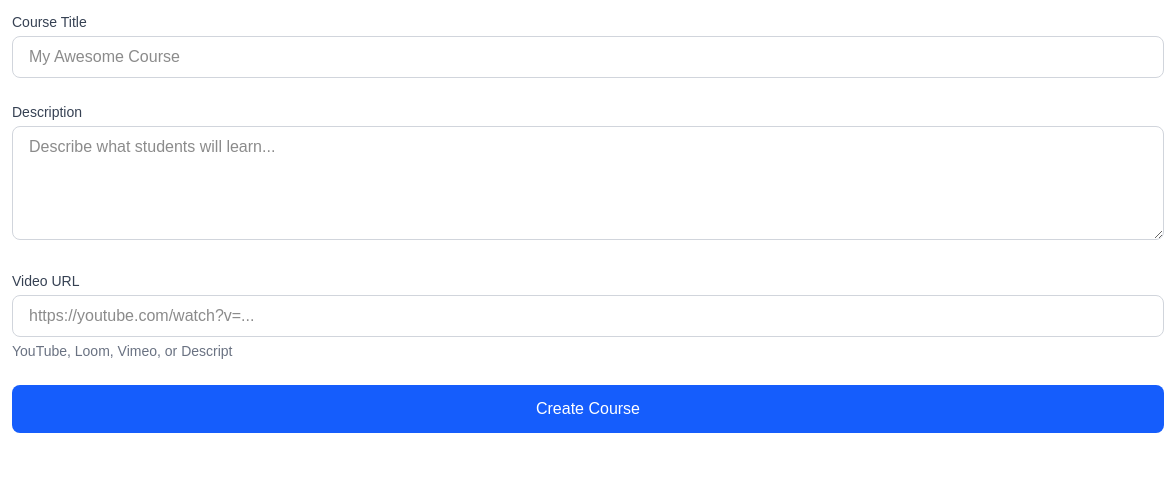
CourseForm › Validation › should show error when title is empty
Click the button "Create Course". click: {"x": 588, "y": 409}
box: top-left (12, 385), bottom-right (1164, 433)
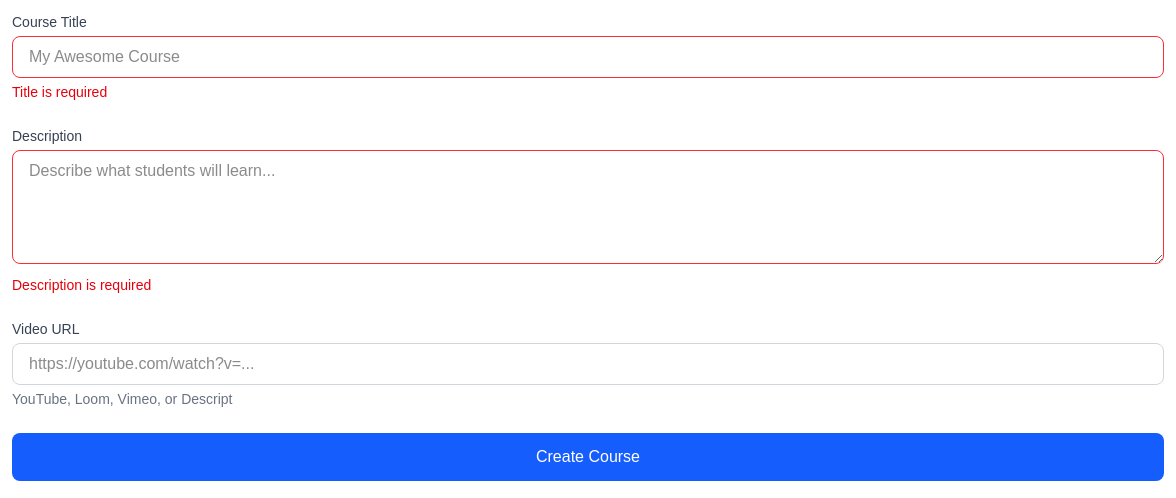
Expected: the text "Title is required" is shown, top-left (12, 84), bottom-right (107, 100)
